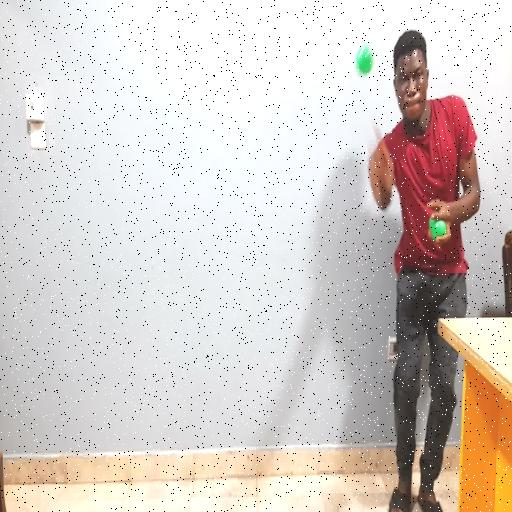plastic-ball: (356, 46, 373, 74)
